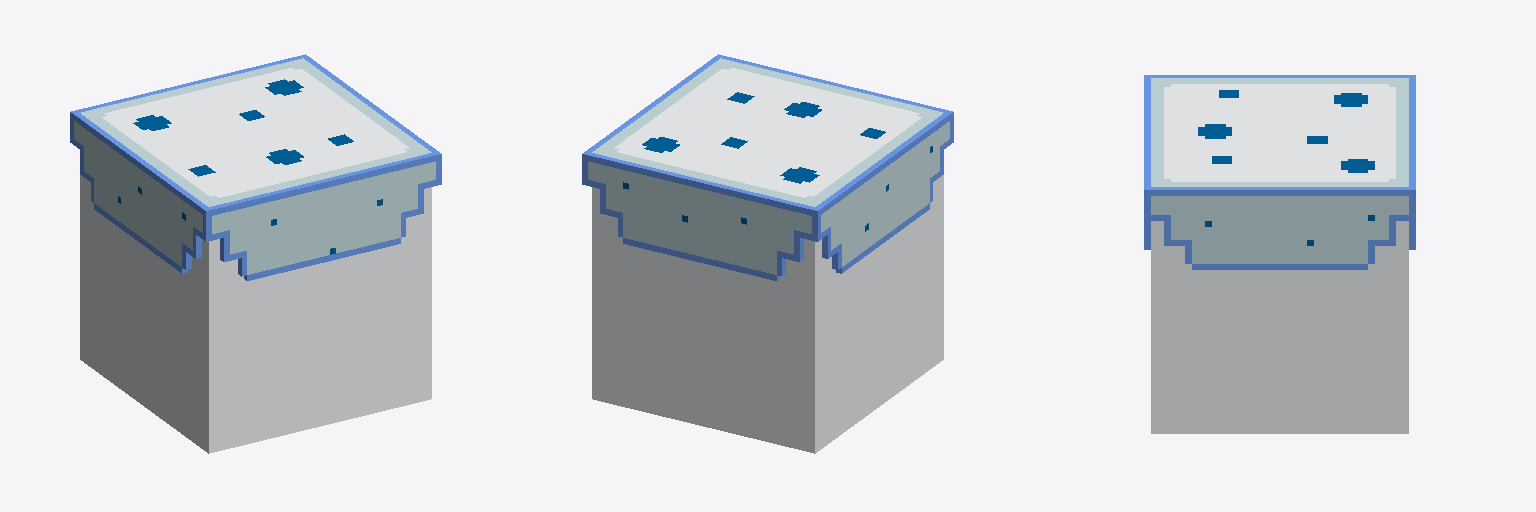
3 views of the same model, side by side, from view 1: azimuth 30°, elevation 25°; view 2: azimuth 150°, elevation 25°; view 3: azimuth 270°, elevation 25° (orthographic).
Parts seen in each view (by area): view 1: object 1; view 2: object 1; view 3: object 1.
Part boxes in pixels (left/top/right/bottom): object 1: left=70, top=54, right=441, bottom=453; object 1: left=582, top=54, right=953, bottom=453; object 1: left=1144, top=75, right=1415, bottom=433.
Bounding box in the file's own units: 4 × 4 × 4.
Materials: 1 (1 with a texture image).